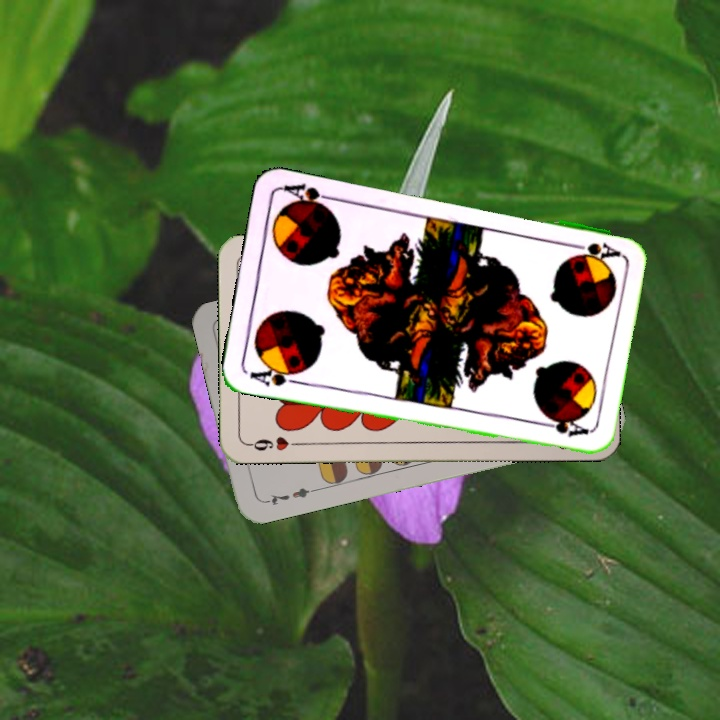E7: (259, 483, 318, 508)
H9: (244, 433, 303, 454)
SA: (245, 361, 305, 389), (563, 238, 622, 262)
